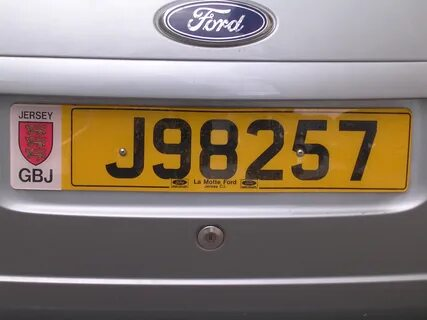number_plate: (8, 103, 410, 193)
